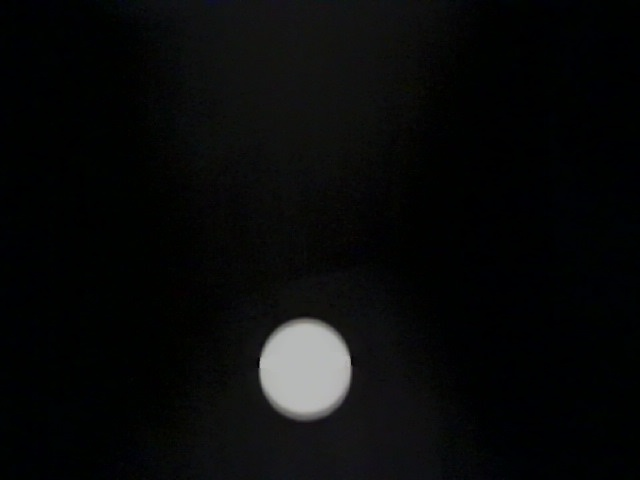CYLJ: (257, 89, 636, 403)
